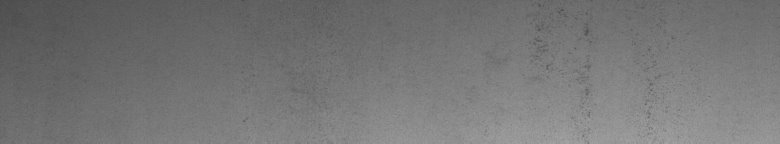ib: (532, 9, 667, 120)
